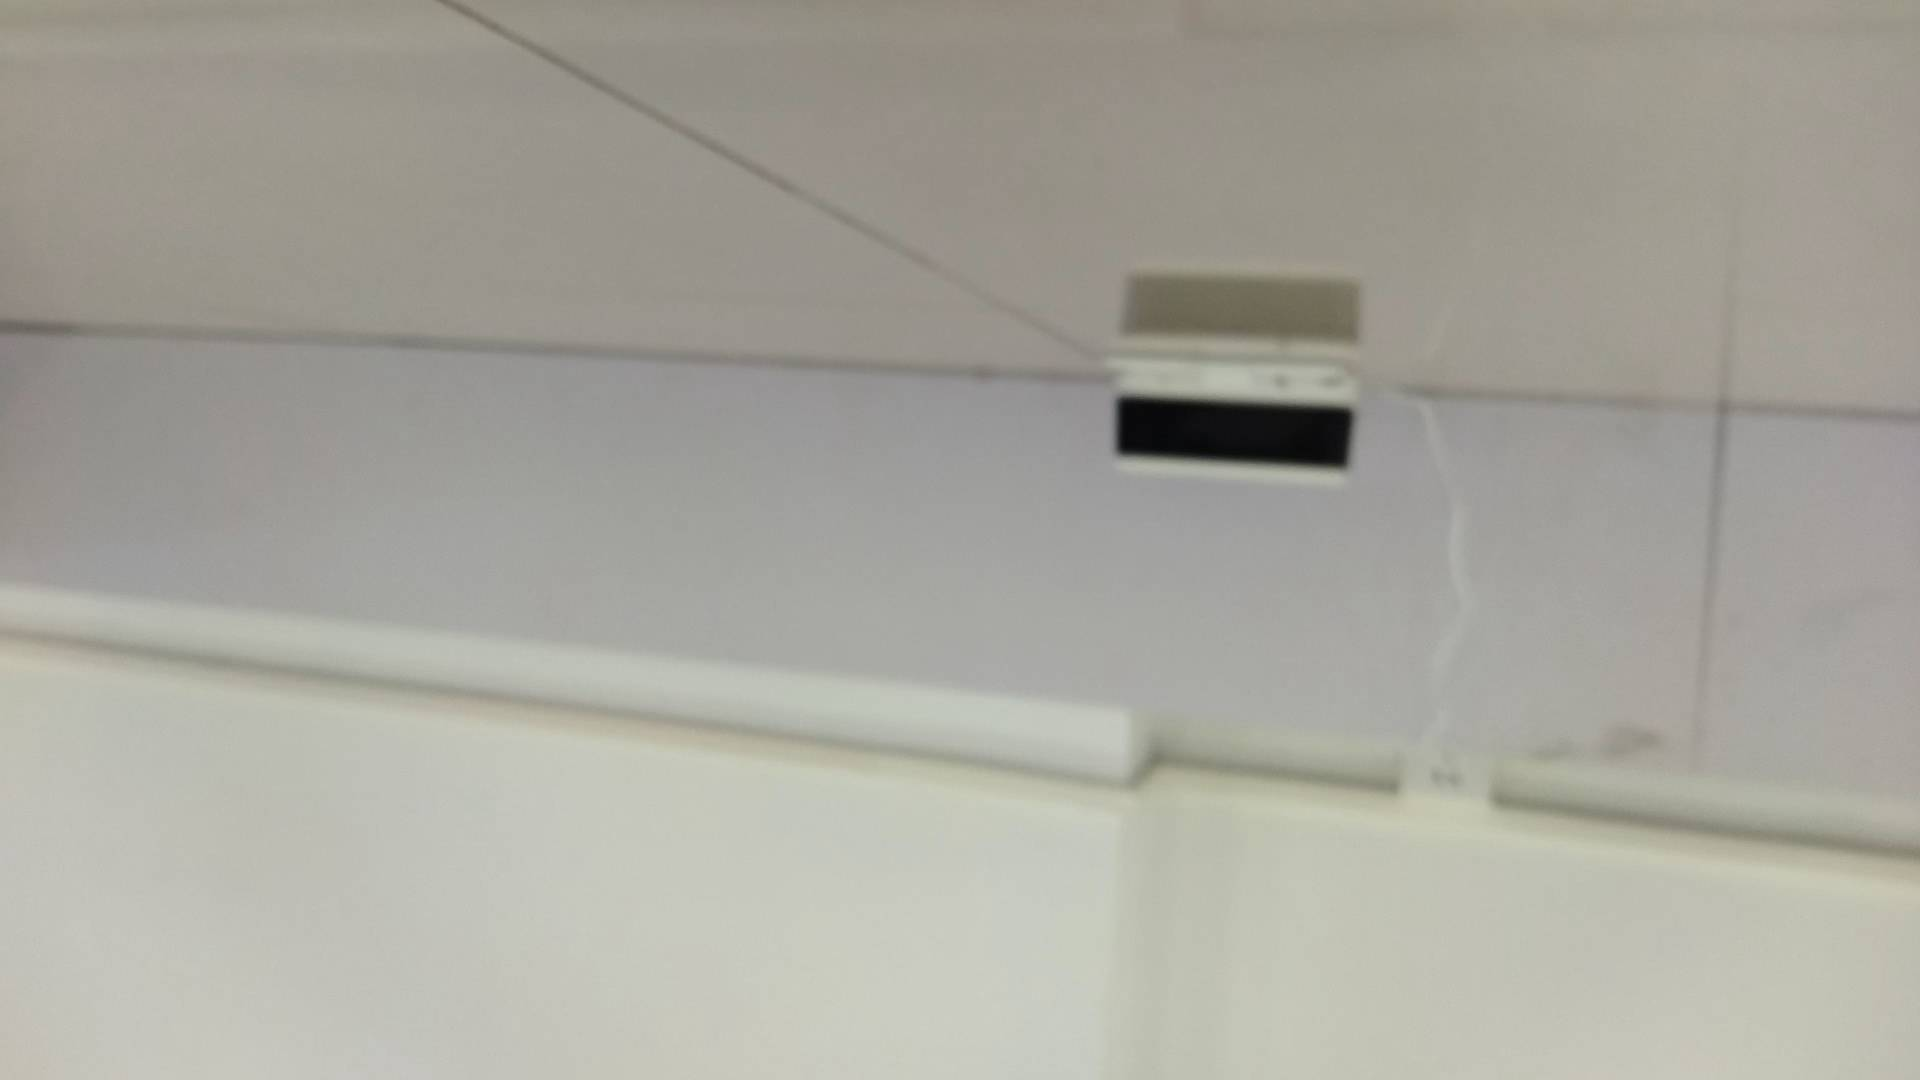recharge seat: (1091, 328, 1367, 487)
